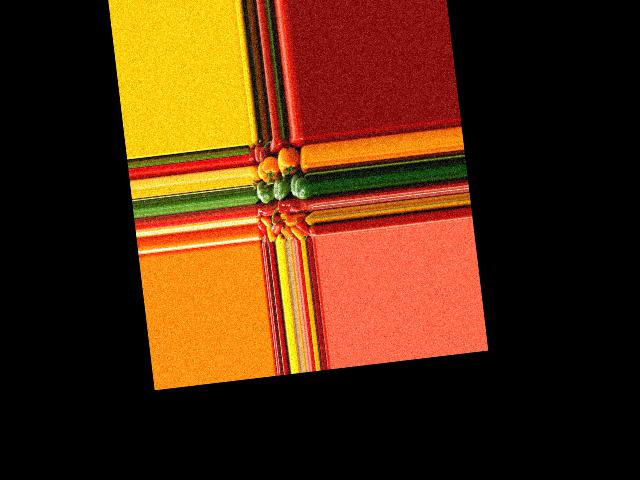bell_pepper: (294, 217, 311, 237)
